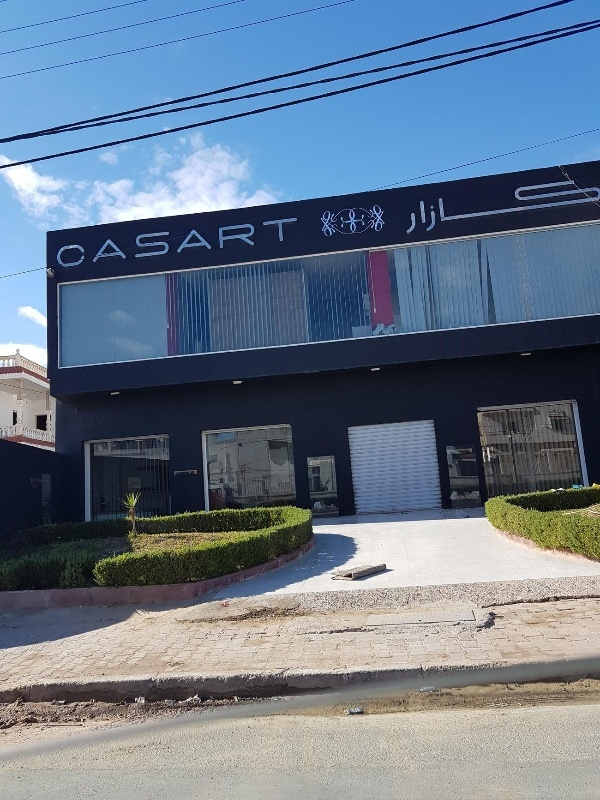text: (417, 175, 432, 236), (433, 175, 448, 236), (449, 175, 464, 236), (465, 175, 480, 236), (481, 175, 496, 236), (497, 175, 512, 236), (513, 175, 528, 236), (529, 175, 544, 236), (545, 175, 560, 236), (561, 175, 576, 236), (577, 175, 592, 236), (65, 214, 80, 269), (81, 214, 96, 269), (97, 214, 112, 269), (113, 214, 128, 269), (129, 214, 144, 269), (145, 214, 160, 269), (161, 214, 176, 269), (177, 214, 192, 269), (193, 214, 208, 269), (209, 214, 224, 269), (225, 214, 240, 269), (241, 214, 256, 269), (257, 214, 272, 269), (273, 214, 288, 269), (403, 175, 416, 236), (289, 214, 301, 269), (55, 214, 64, 269), (593, 175, 600, 236), (81, 403, 96, 426), (97, 403, 112, 426), (113, 403, 128, 426), (129, 403, 144, 426), (145, 403, 160, 426), (161, 403, 176, 426), (177, 403, 192, 426), (193, 403, 208, 426), (209, 403, 212, 426), (79, 403, 80, 426)
